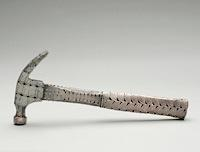hammer: (11, 47, 189, 127)
